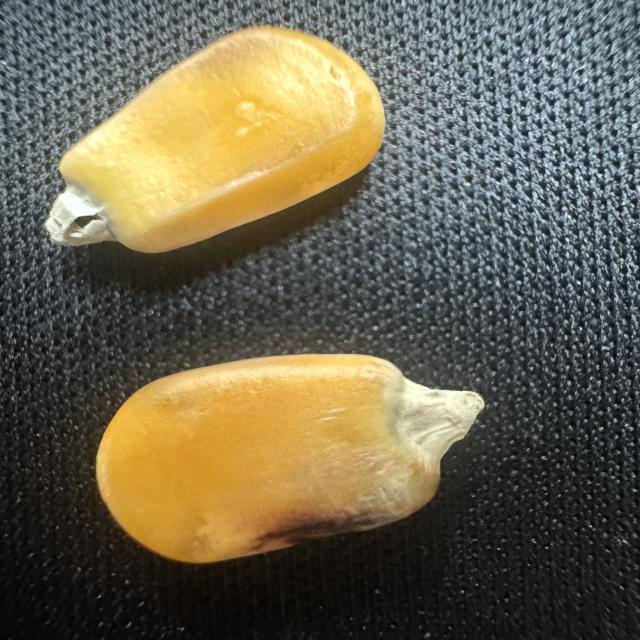Bad-Seed: (85, 349, 487, 566)
Good-Seed: (26, 18, 380, 258)
